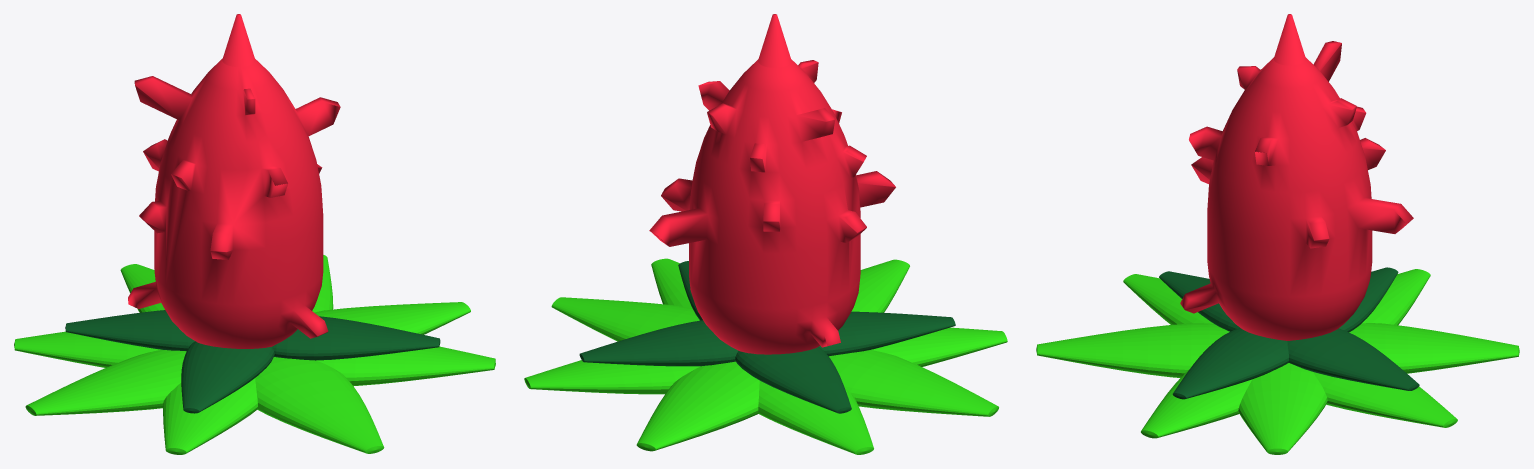
File: fruit_Plant.fbx
3 renders of one model, left to right at view 1: azimuth 30°, elevation 25°; view 2: azimuth 150°, elevation 25°; view 3: azimuth 270°, elevation 25°, orthographic. The views are drawn at different scales.
Visible parts, largest first — view 1: Plant, Petals; view 2: Plant, Petals; view 3: Plant, Petals.
Part boxes in pixels (left/top/right/bottom): Plant: left=128, top=14, right=340, bottom=348; Petals: left=14, top=255, right=495, bottom=454; Plant: left=649, top=14, right=895, bottom=354; Petals: left=524, top=258, right=1007, bottom=454; Plant: left=1180, top=14, right=1413, bottom=340; Petals: left=1036, top=267, right=1519, bottom=454.
Bounding box in the file's own units: 752 × 594 × 746.
